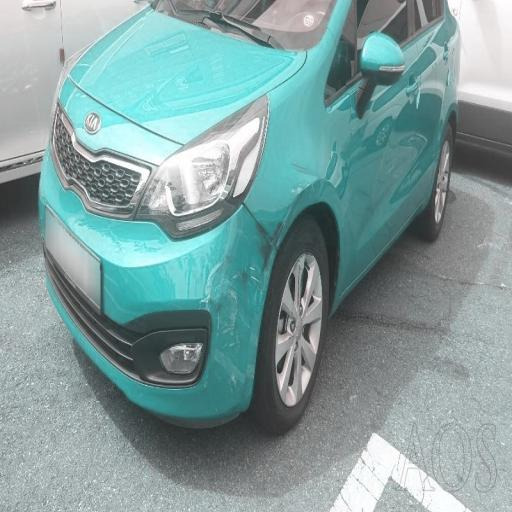scratch: (166, 210, 280, 404)
